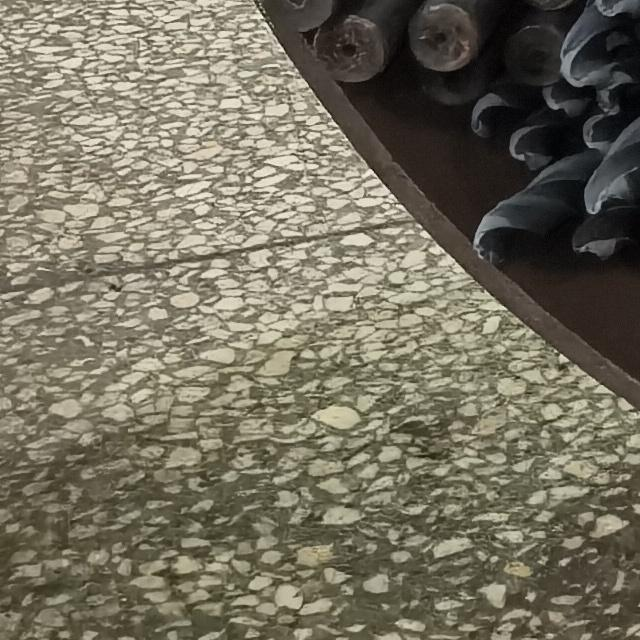tool: (312, 10, 386, 80), (416, 4, 479, 70), (508, 28, 562, 87), (420, 67, 474, 116), (256, 0, 335, 30)
tool_b: (462, 212, 532, 266), (568, 220, 632, 272), (504, 116, 558, 177), (588, 169, 640, 218), (536, 82, 590, 122), (579, 114, 625, 150), (598, 0, 640, 39), (468, 102, 509, 138), (596, 83, 640, 114), (568, 46, 606, 76)
